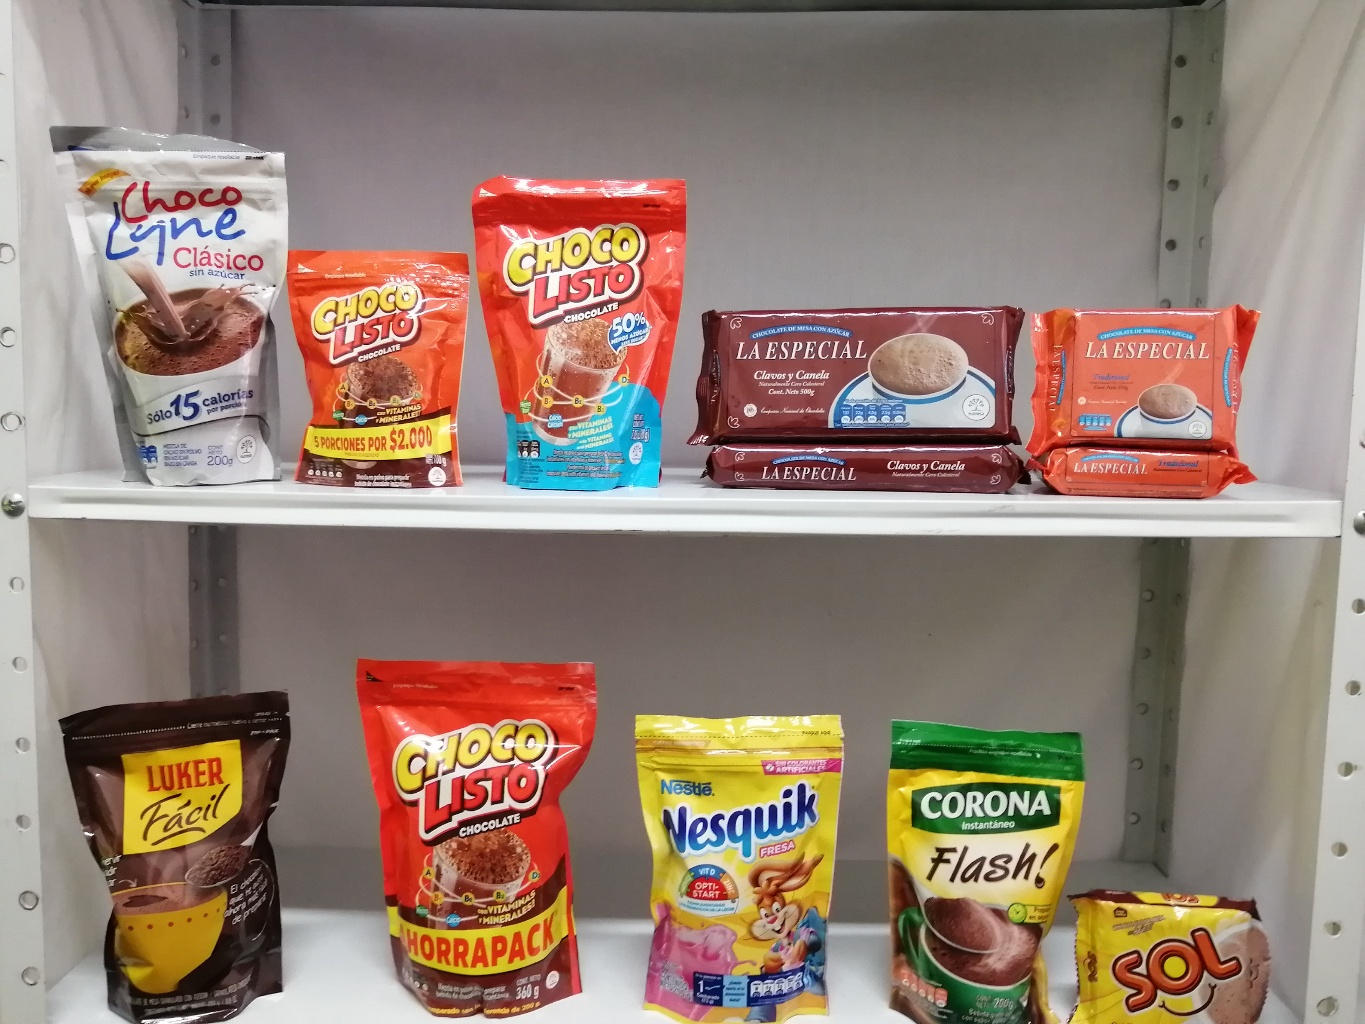COL0170103DYP36000: (347, 649, 610, 1023)
COL0170104DYP20000: (458, 153, 708, 499)
COL0170305DYP20000: (618, 695, 855, 1021)
